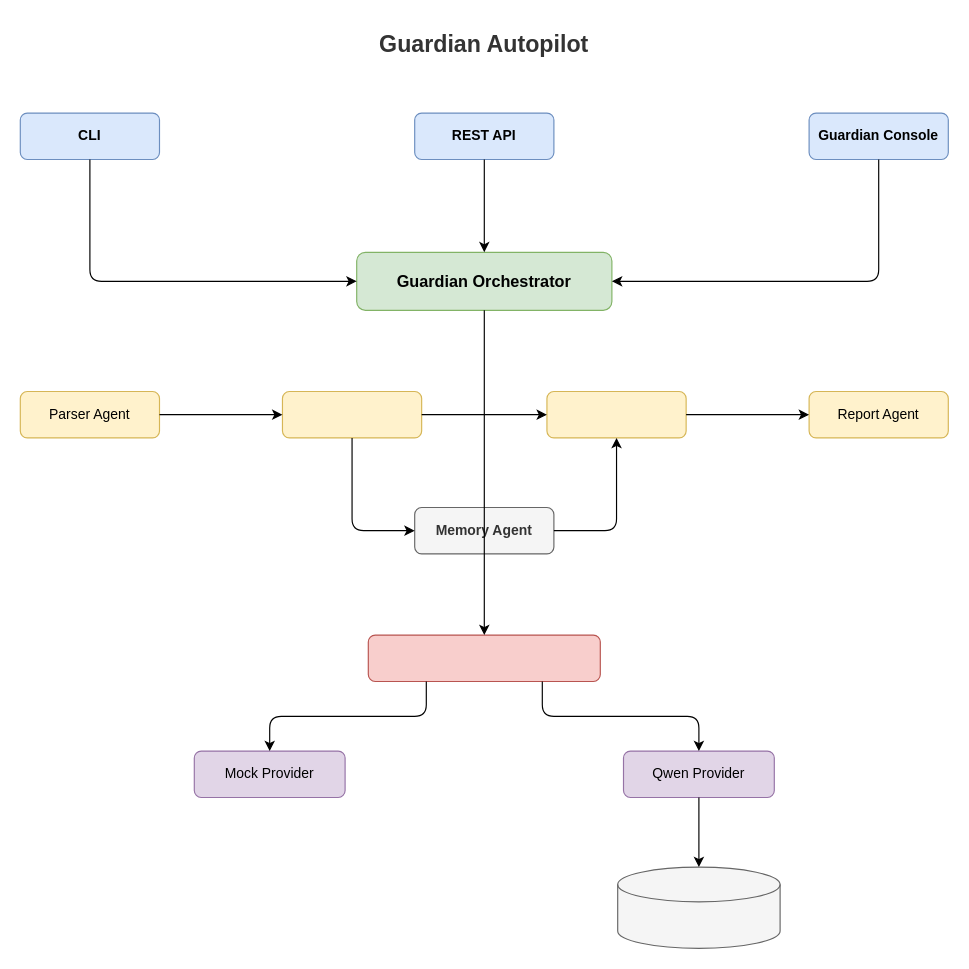
Some shapes in this 969 by 969 pixel diagram are drawn without their labels. The shapes that lost their labels are listed below. From the top down, each one's box as (x1, y1, x2, y2) in pixels, then its label:
(281, 390, 422, 438): Investigation Agent
(546, 390, 686, 438): Decision Agent
(367, 634, 600, 682): AI Provider Factory
(617, 866, 780, 948): Alibaba Cloud Qwen
